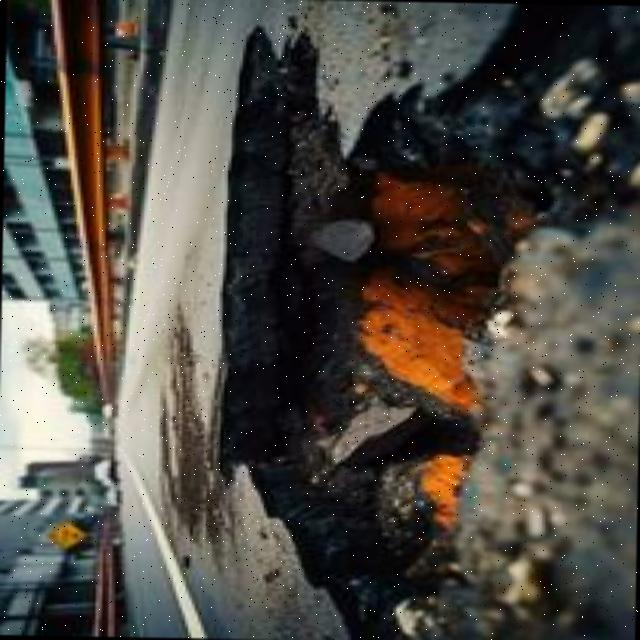road collapse: (150, 6, 640, 613)
